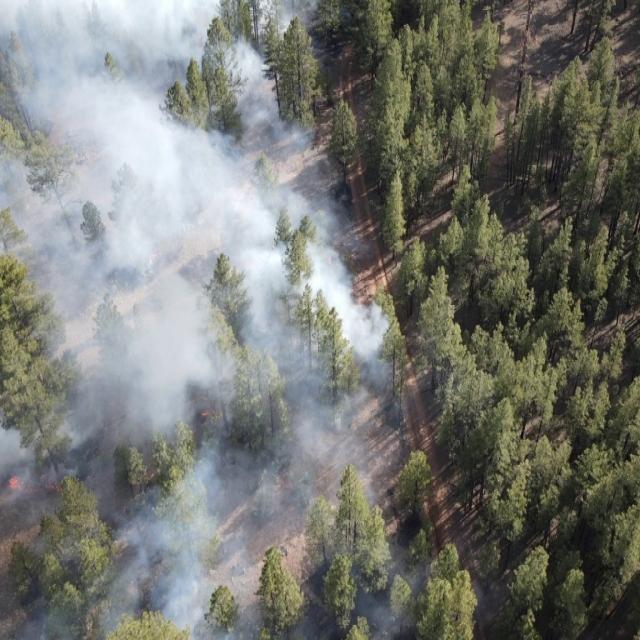fire: (6, 472, 66, 496), (118, 500, 133, 519), (196, 408, 212, 420), (328, 255, 333, 270)
smoke: (0, 0, 337, 640), (338, 205, 393, 640), (393, 551, 498, 640)
